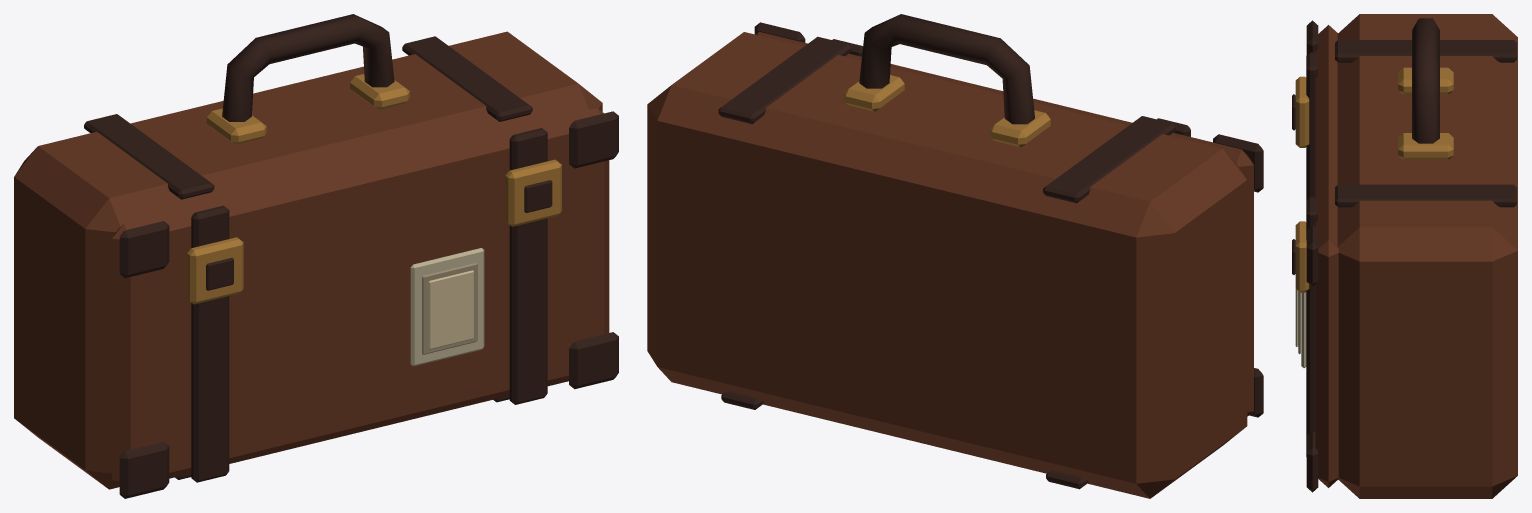
The model's file is TravellerSuitcase.glb.
The picture shows the model from 3 angles, left to right: view 1: azimuth 30°, elevation 25°; view 2: azimuth 150°, elevation 25°; view 3: azimuth 270°, elevation 25°; orthographic projection. The views are drawn at different scales.
Parts seen in each view (by area): view 1: LidFront, LeatherBody, FrontStrap.001, FrontStrap, CarryHandle, TopStrap, TopStrap.001, LuggageTag, TagPaper, Buckle.001, Buckle, CornerGuard (+8 smaller); view 2: LeatherBody, CarryHandle, TopStrap.001, TopStrap, LidFront, HandleMount.001, HandleMount, CornerGuard.001; view 3: LeatherBody, LidFront, CarryHandle, TopStrap.001, TopStrap, FrontStrap.001, FrontStrap, HandleMount.001, Buckle, Buckle.001, CornerGuard.003, HandleMount (+3 smaller).
Part boxes in pixels (box(x1,y1,x2,y2)): LidFront: box(112, 108, 609, 485); LeatherBody: box(14, 31, 602, 489); FrontStrap.001: box(509, 128, 547, 404); FrontStrap: box(191, 205, 229, 482); CarryHandle: box(222, 14, 394, 121); TopStrap: box(84, 114, 214, 199); TopStrap.001: box(402, 36, 532, 121); LuggageTag: box(410, 248, 484, 366); TagPaper: box(428, 270, 473, 349); Buckle.001: box(505, 159, 561, 226); Buckle: box(187, 237, 243, 304); CornerGuard: box(119, 441, 169, 498); LeatherBody: box(647, 32, 1247, 498); CarryHandle: box(859, 14, 1034, 124); TopStrap.001: box(718, 36, 851, 123); TopStrap: box(1043, 116, 1175, 203); LidFront: box(756, 31, 1253, 416); HandleMount.001: box(843, 75, 904, 111); HandleMount: box(989, 110, 1050, 147); CornerGuard.001: box(1213, 134, 1263, 192); LeatherBody: box(1337, 14, 1517, 498); LidFront: box(1315, 25, 1338, 487); CarryHandle: box(1412, 18, 1439, 143); TopStrap.001: box(1335, 184, 1516, 207); TopStrap: box(1335, 40, 1516, 62); FrontStrap.001: box(1306, 197, 1317, 456); FrontStrap: box(1306, 52, 1317, 200); HandleMount.001: box(1398, 133, 1453, 159); Buckle: box(1295, 76, 1309, 147); Buckle.001: box(1295, 221, 1309, 292); CornerGuard.003: box(1306, 225, 1318, 286); HandleMount: box(1398, 67, 1453, 94).
Bounding box in the file's own units: 2.6 × 1.81 × 1.06.
